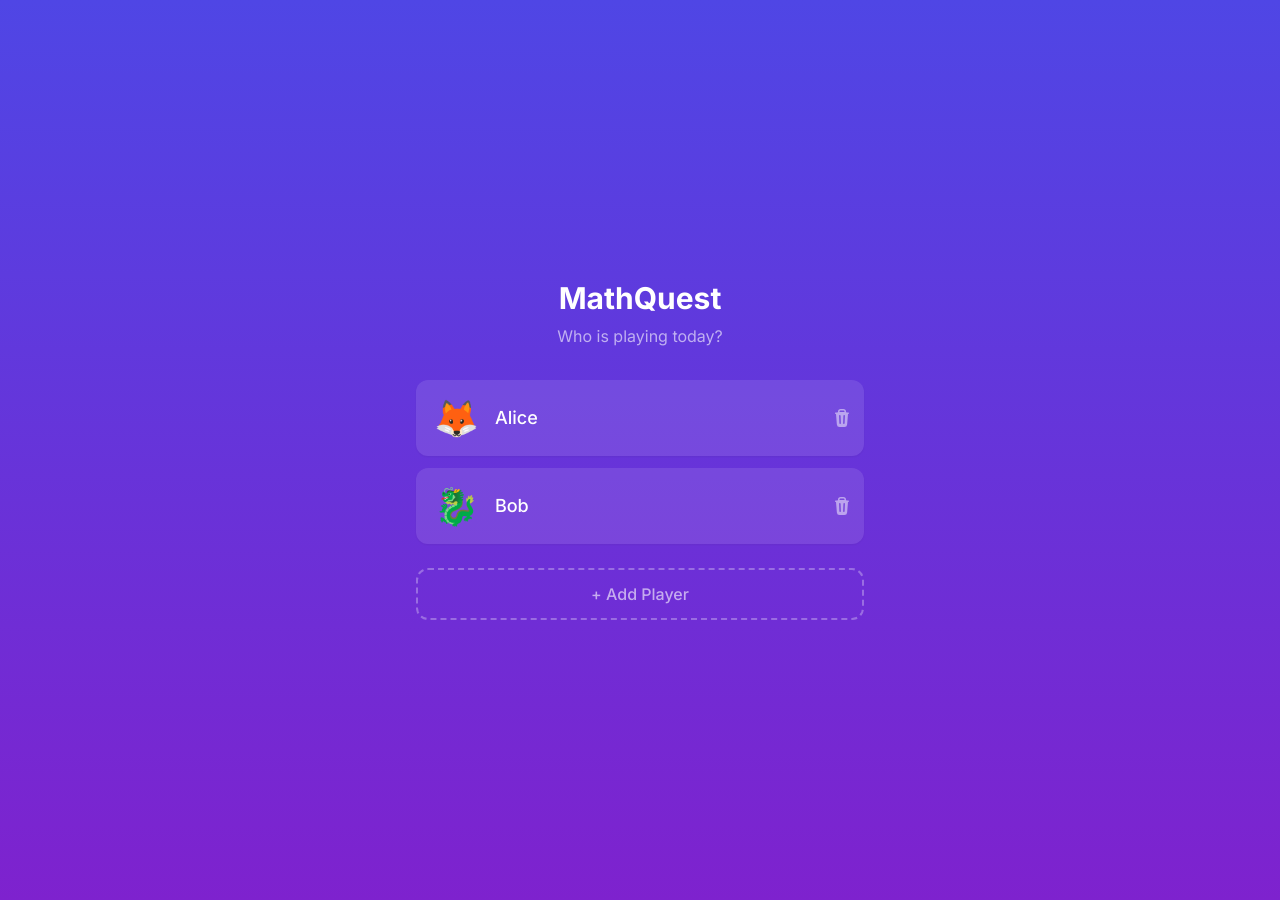
it: ProfilePicker › existing profiles state › should show create form when Add Player is clicked
The image size is (1280, 900).
Click the button "+ Add Player" at [640, 594], box [416, 568, 864, 620]
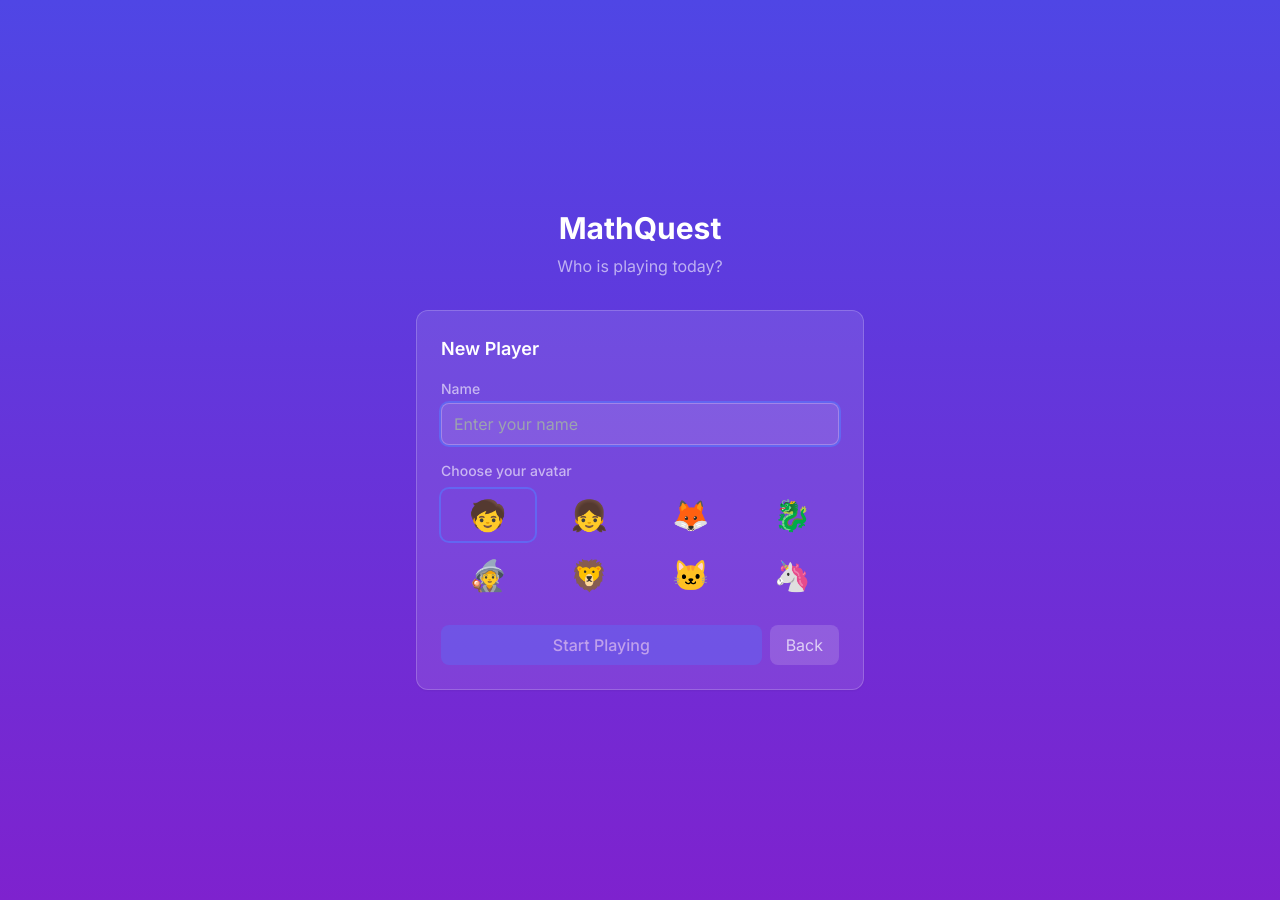
Result: the field labelled "Name" is shown at [441, 403, 839, 445]
Result: the button "Back" is shown at [770, 625, 839, 665]
